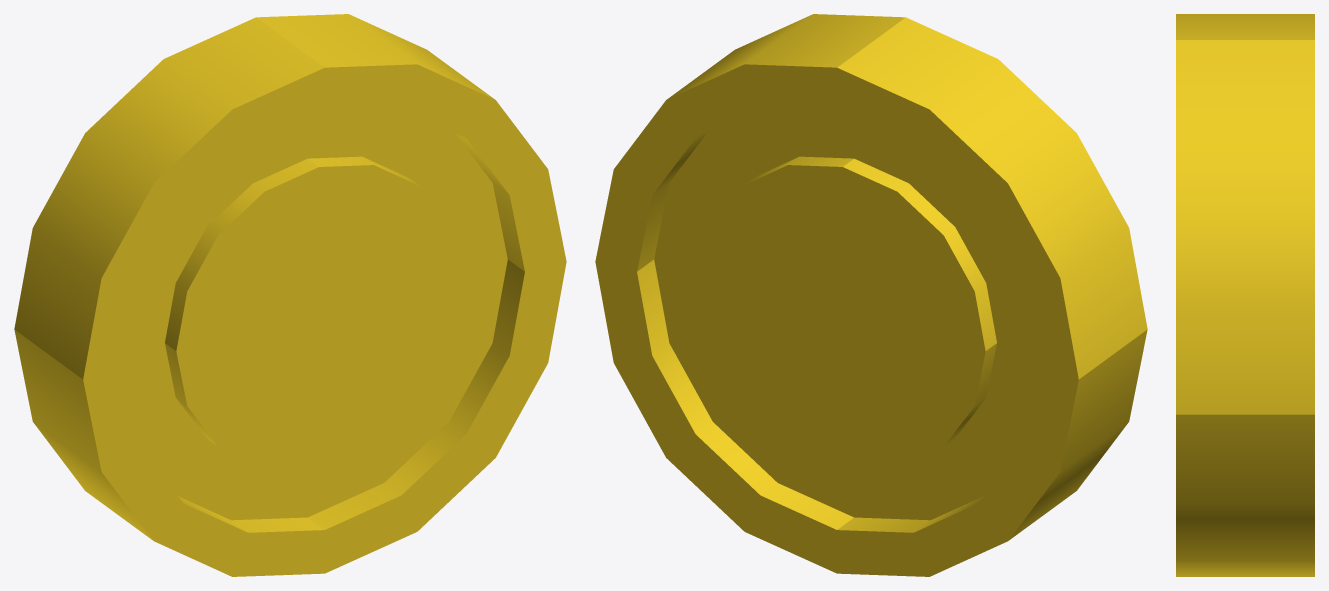
The model's file is Coin.fbx.
The picture shows the model from 3 angles, left to right: view 1: azimuth 30°, elevation 25°; view 2: azimuth 150°, elevation 25°; view 3: azimuth 270°, elevation 25°; orthographic projection.
Parts seen in each view (by area): view 1: Cylinder; view 2: Cylinder; view 3: Cylinder.
Boxes of the visible parts, bbox=[...] form: Cylinder: bbox=[14, 14, 566, 576]; Cylinder: bbox=[595, 14, 1147, 576]; Cylinder: bbox=[1176, 14, 1314, 576].
Bounding box in the file's own units: 2 × 2 × 0.4929.
